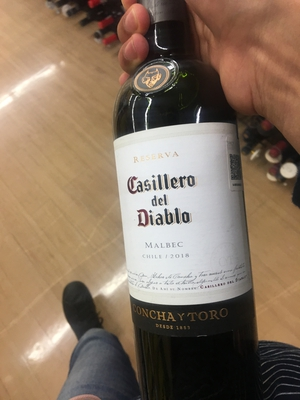casillero del diablo malbec: (98, 10, 286, 375)
